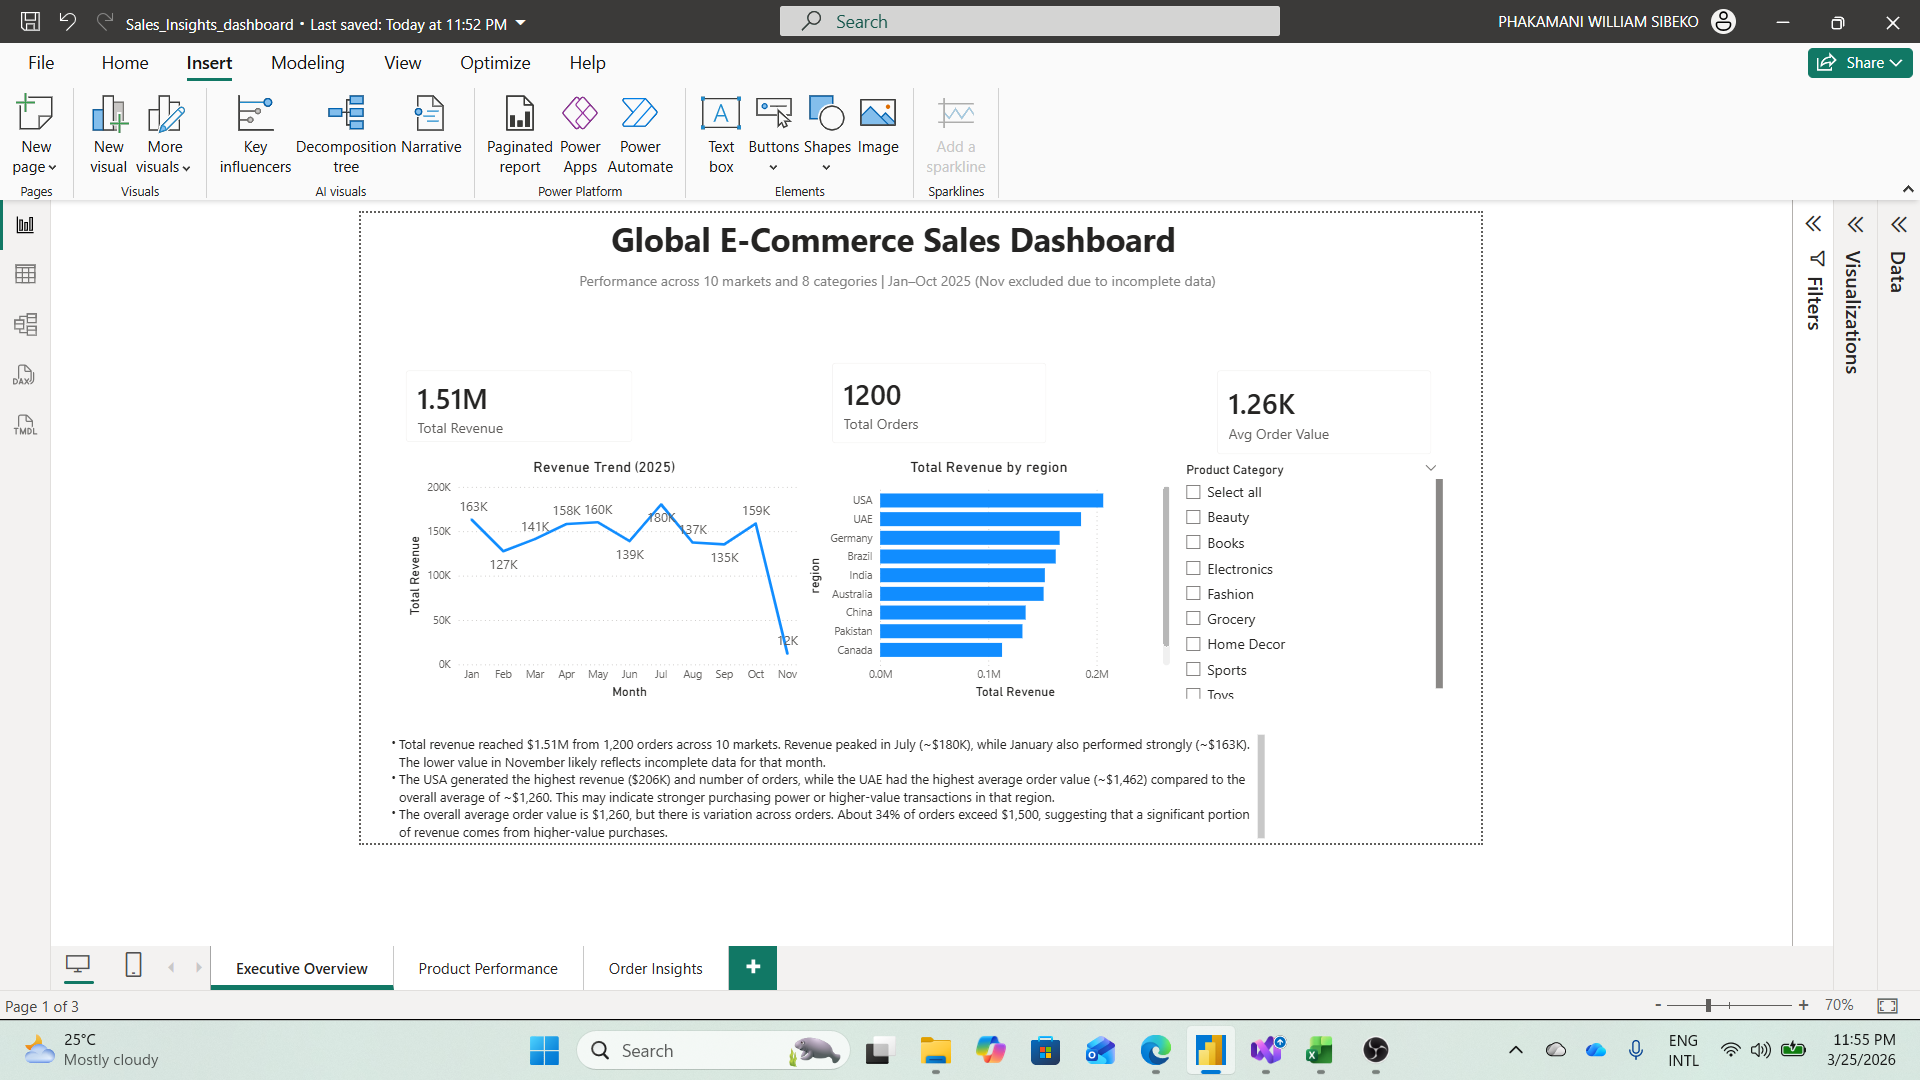

The dashboard page shown, as its layout file describes it:
{"tool":"powerbi","page":{"name":"Executive Overview","canvas":[1280,720],"ordinal":0},"visuals":[{"type":"cardVisual","fields":{"Data":["cleaned_ecommerce_data.Total Revenue"]},"box":[34.3,163.3,293.7,116.6],"z":0},{"type":"cardVisual","fields":{"Data":["cleaned_ecommerce_data.Total Orders"]},"box":[521.4,153.7,279.9,126.2],"z":1000},{"type":"cardVisual","fields":{"Data":["cleaned_ecommerce_data.Avg Order Value"]},"box":[961.9,163.3,279.9,130.4],"z":2000},{"type":"lineChart","title":"Revenue Trend (2025)","fields":{"Category":["cleaned_ecommerce_data.month_name"],"Y":["cleaned_ecommerce_data.Total Revenue"]},"box":[48,279.9,458.3,279.9],"z":3000},{"type":"barChart","title":"Total Revenue by region","fields":{"Category":["cleaned_ecommerce_data.region"],"Y":["cleaned_ecommerce_data.Total Revenue"]},"box":[506.3,279.9,424,279.9],"z":4000},{"type":"slicer","title":"Filter by Category","fields":{"Values":["cleaned_ecommerce_data.product_category"]},"box":[930.4,279.9,311.5,279.9],"z":5000},{"type":"textbox","box":[20.6,591.4,1018.2,129],"z":6000},{"type":"textbox","box":[244.3,61.4,767.1,61.4],"z":7000},{"type":"textbox","box":[225.7,0,765.7,61.4],"z":7002}]}

Visuals, with their boxes on the page's 1280x720 design canvas (x1, y1, x2, y2). These are canvas units, not pixel positions in the 1920x1080 screenshot, which may show the page scaled, cropped or inside an application window:
cardVisual - cleaned_ecommerce_data.Total Revenue: locate(34, 163, 328, 280)
cardVisual - cleaned_ecommerce_data.Total Orders: locate(521, 154, 801, 280)
cardVisual - cleaned_ecommerce_data.Avg Order Value: locate(962, 163, 1242, 294)
"Revenue Trend (2025)" lineChart: locate(48, 280, 506, 560)
"Total Revenue by region" barChart: locate(506, 280, 930, 560)
"Filter by Category" slicer: locate(930, 280, 1242, 560)
textbox: locate(21, 591, 1039, 720)
textbox: locate(244, 61, 1011, 123)
textbox: locate(226, 0, 991, 61)
